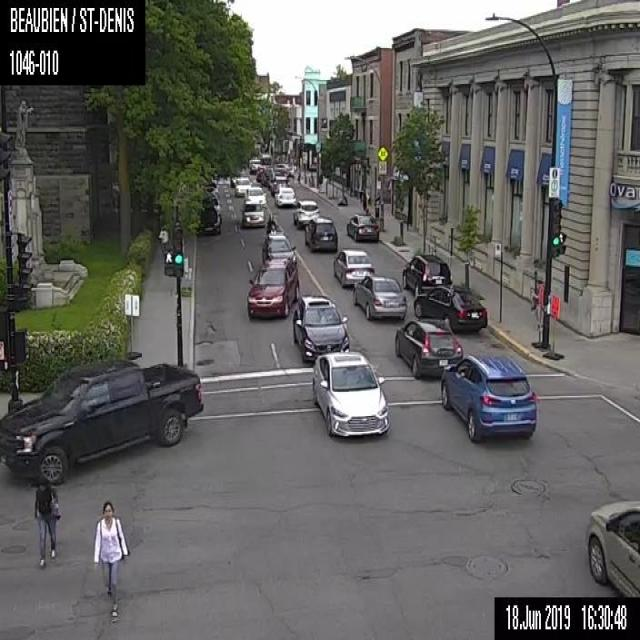construction: (540, 293, 563, 358), (531, 284, 542, 348)
pedestrian: (92, 498, 129, 618), (33, 476, 62, 567)
vehicle: (0, 353, 203, 484), (440, 352, 538, 441), (310, 351, 389, 437), (585, 497, 639, 595), (394, 318, 463, 380), (292, 294, 348, 363), (412, 283, 487, 333), (246, 260, 299, 318), (352, 273, 407, 319), (402, 254, 450, 294), (332, 248, 375, 288), (304, 216, 336, 252), (345, 210, 379, 242), (261, 234, 296, 262), (194, 204, 221, 237), (292, 198, 319, 228), (240, 200, 264, 227), (243, 185, 266, 208), (274, 186, 296, 206), (270, 175, 289, 195), (234, 176, 252, 195), (265, 211, 278, 233)
